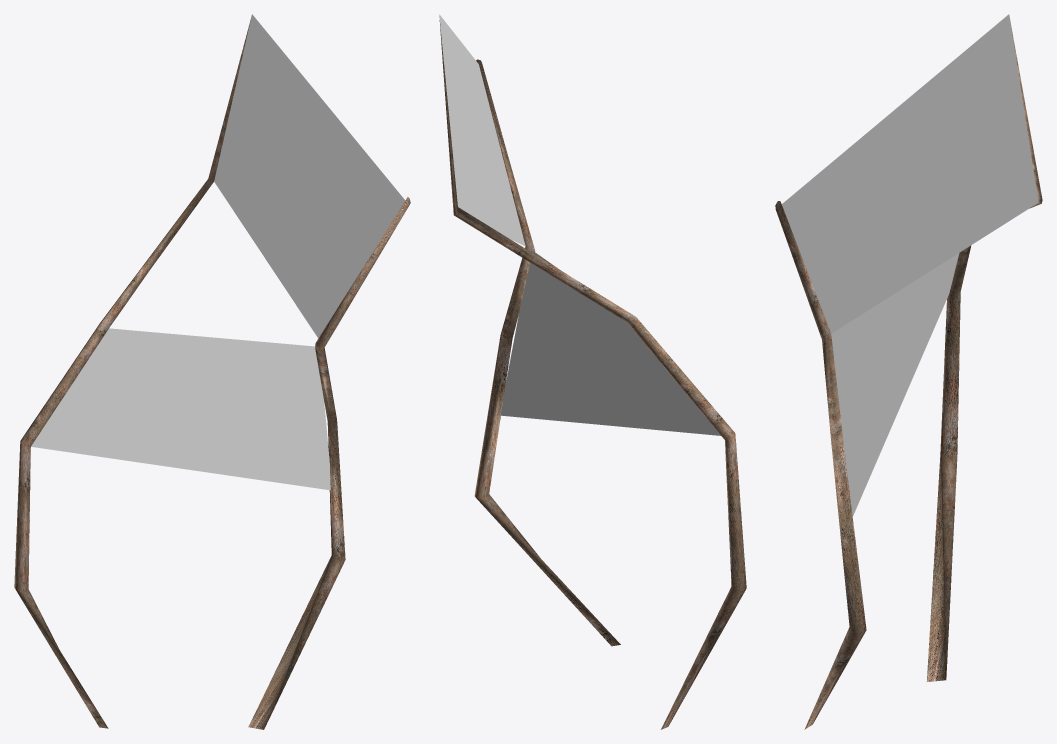
The model's file is poi_lair_web_s04_l0.fbx.
3 renders of one model, left to right at view 1: azimuth 30°, elevation 25°; view 2: azimuth 150°, elevation 25°; view 3: azimuth 270°, elevation 25°, orthographic. The views are drawn at different scales.
Parts seen in each view (by area): view 1: mesh_node; view 2: mesh_node; view 3: mesh_node.
Boxes of the visible parts, box(x1,y1,x2,y2) form: mesh_node: box(14, 14, 410, 729); mesh_node: box(439, 14, 746, 729); mesh_node: box(775, 14, 1042, 729).
Bounding box in the file's own units: 0.499 × 0.9502 × 0.2981.
